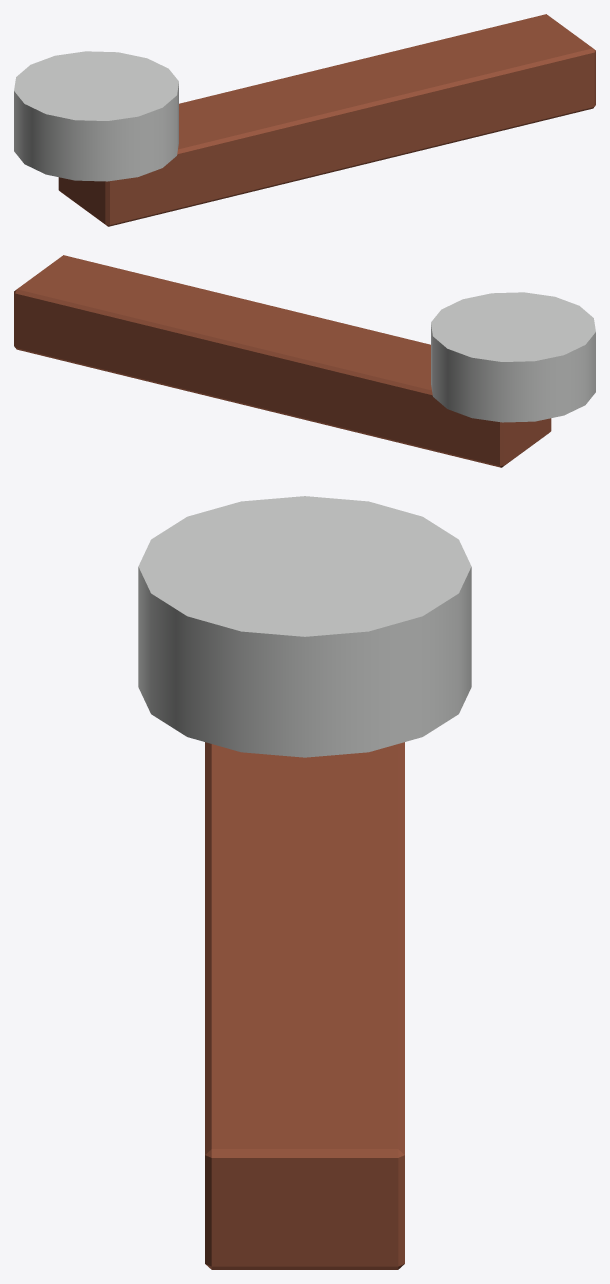
The model's file is hazmat_depot_right_door_handle.glb.
3 views of the same model, one above another, from view 1: azimuth 30°, elevation 25°; view 2: azimuth 150°, elevation 25°; view 3: azimuth 270°, elevation 25° (orthographic). The views are drawn at different scales.
Parts seen in each view (by area): view 1: hazmat_depot_right_door_handle.001; view 2: hazmat_depot_right_door_handle.001; view 3: hazmat_depot_right_door_handle.001.
Part boxes in pixels (box(x1,y1,x2,y2)): hazmat_depot_right_door_handle.001: box(14, 14, 595, 226); hazmat_depot_right_door_handle.001: box(14, 255, 595, 467); hazmat_depot_right_door_handle.001: box(138, 496, 471, 1269).
Size of the model in its own units: 0.19 by 0.04 by 0.05.
